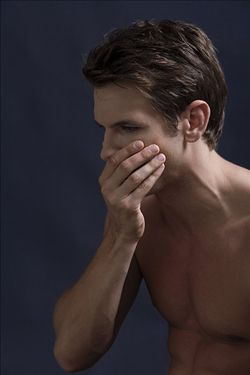face: (96, 79, 167, 201)
